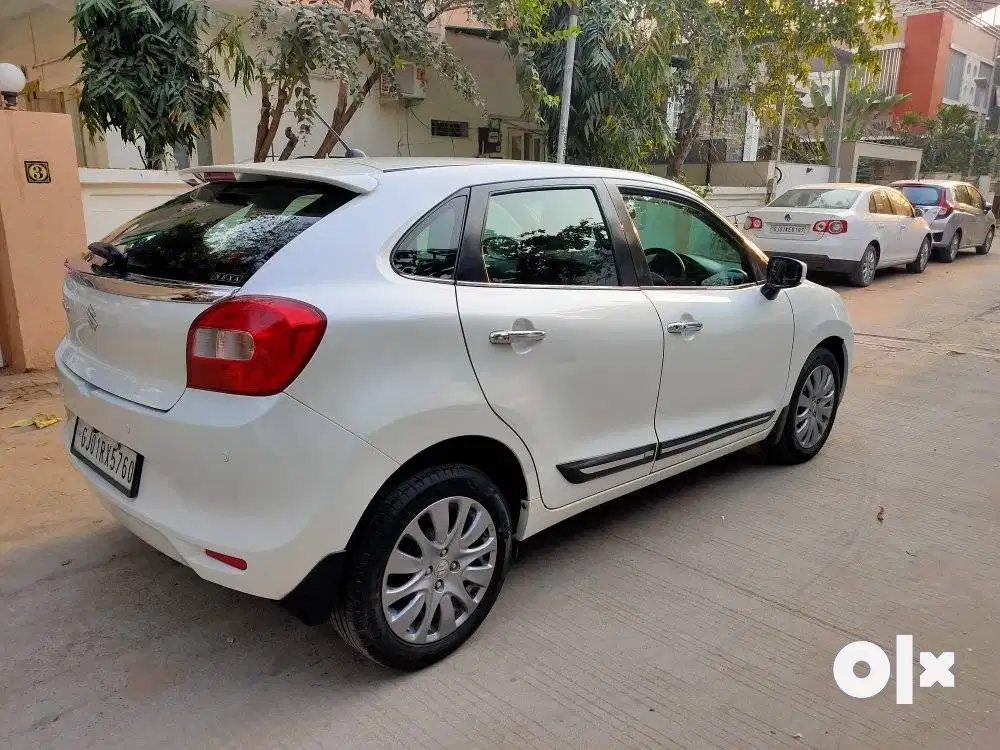car: (51, 155, 913, 660)
